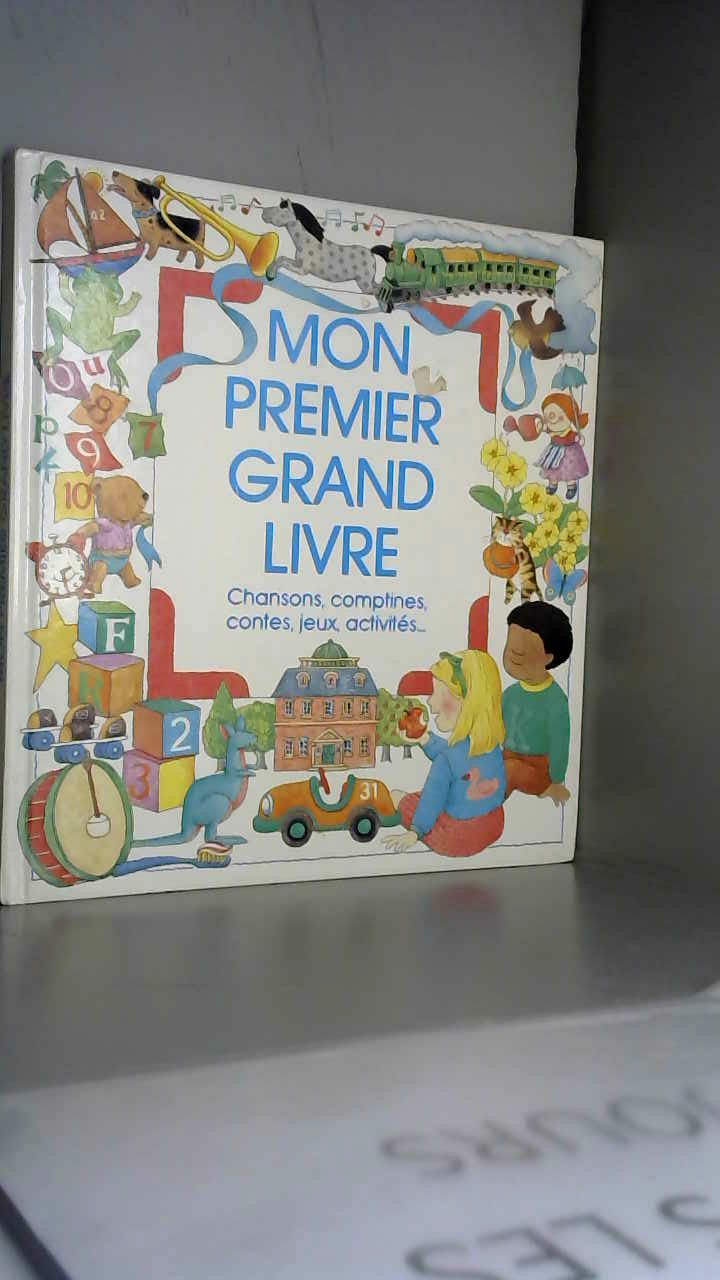book: (0, 120, 720, 927)
